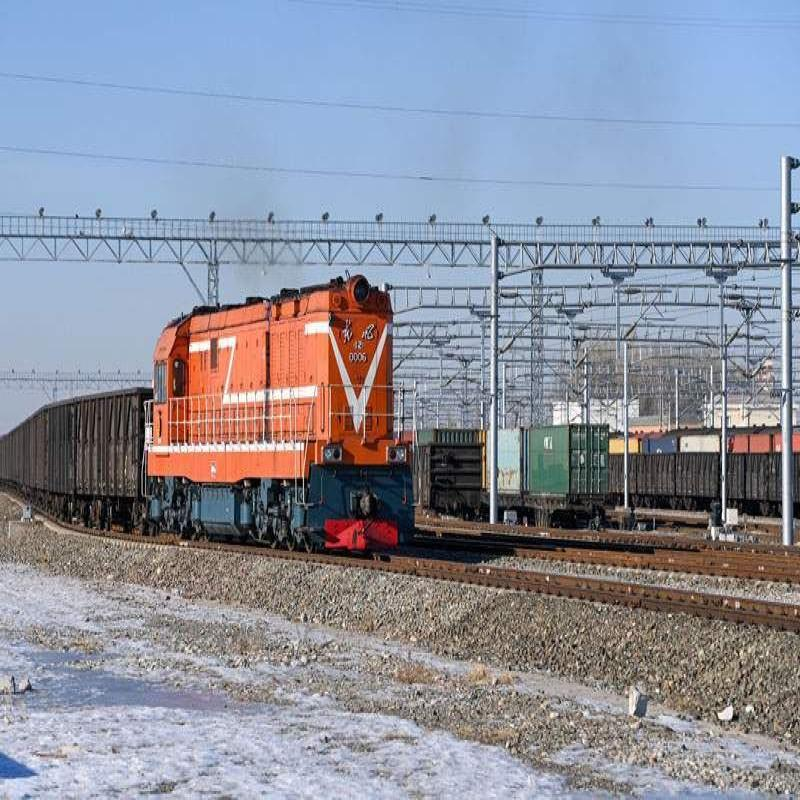train: (143, 265, 419, 555), (2, 381, 150, 523), (487, 399, 626, 531), (609, 444, 797, 522)
